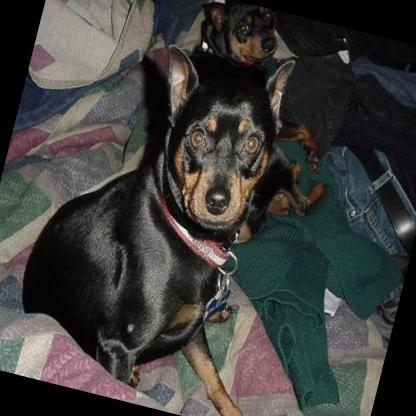miniature_pinscher: (0, 4, 335, 416), (146, 0, 365, 262)
